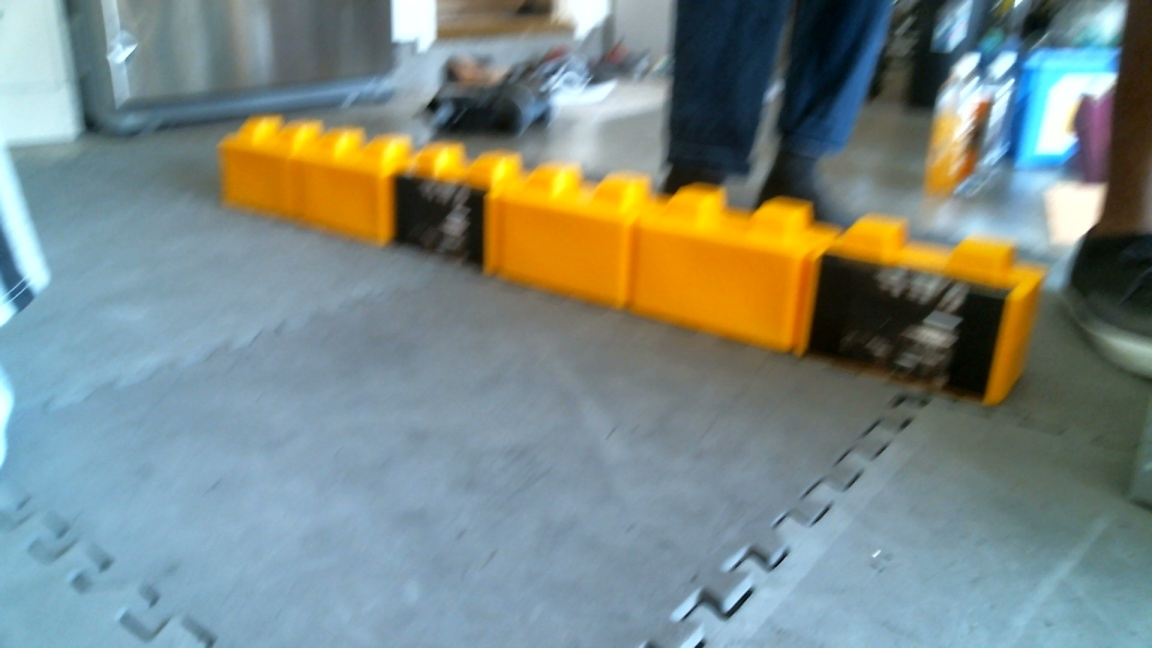center: (302, 126, 634, 309)
left: (380, 143, 816, 349)
right: (504, 173, 1046, 415), (221, 118, 492, 291)
